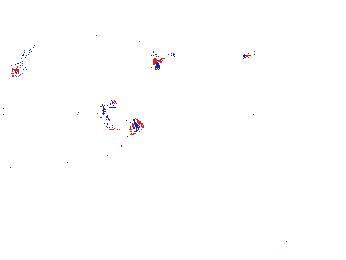X-ray fish: (75, 9, 126, 50)
glassfish: (65, 106, 135, 144), (1, 104, 56, 149)
red belly glassfish: (9, 50, 36, 78), (149, 46, 164, 72), (241, 50, 269, 62)
redtail glassfish: (98, 98, 146, 135)
